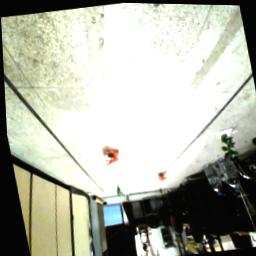herb: (217, 128, 238, 164), (113, 183, 122, 198)
wild: (101, 148, 122, 167), (156, 170, 167, 182)
